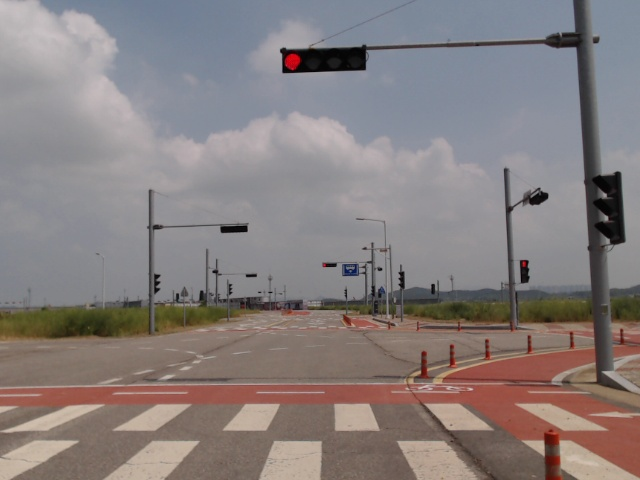red_4: (282, 47, 366, 73), (321, 262, 338, 268)
